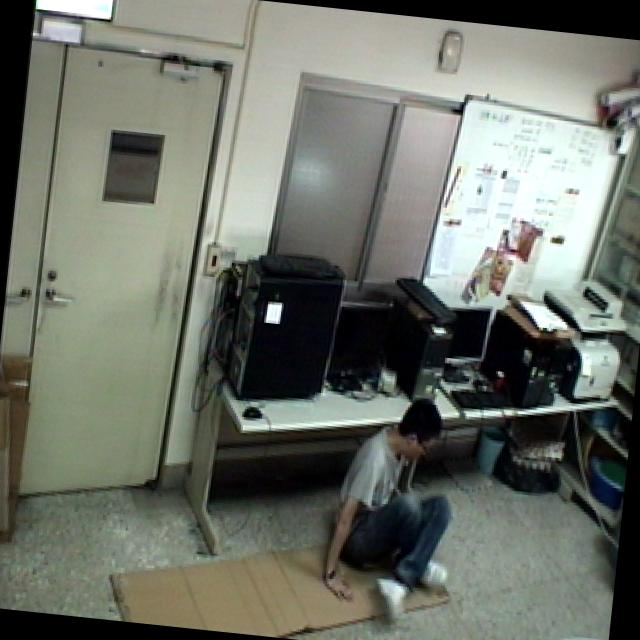sit: (314, 383, 468, 620)
